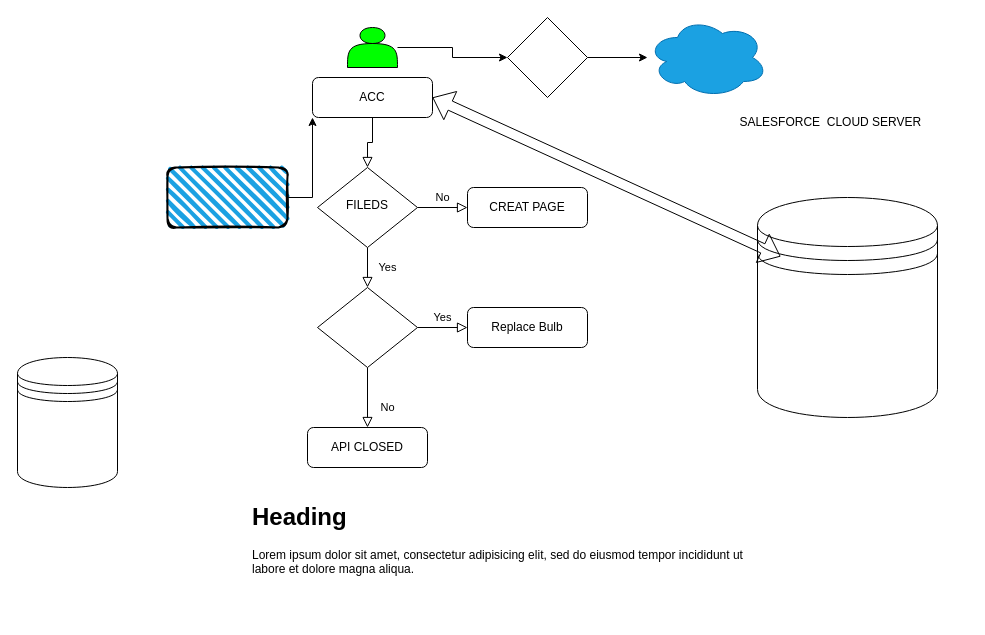
Some shapes in this 985 by 635 pixel diagram are drawn without their labels. The box of each missing label's shape, as (x1, y1, x2, y2) in pixels:
Bulb burned out?: (316, 286, 418, 368)
CRUD: (756, 196, 938, 418)
INDIA: (16, 356, 118, 488)
